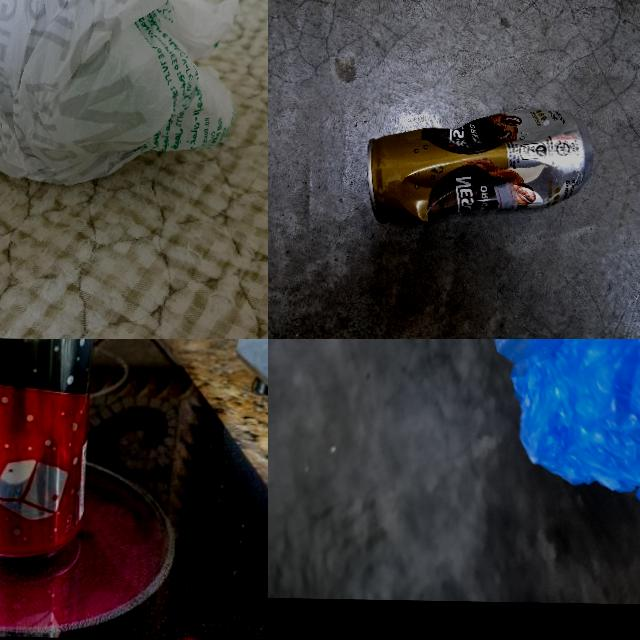lata: (365, 105, 586, 226), (0, 339, 93, 556)
sacola plástica: (0, 0, 250, 208), (495, 339, 640, 520)
